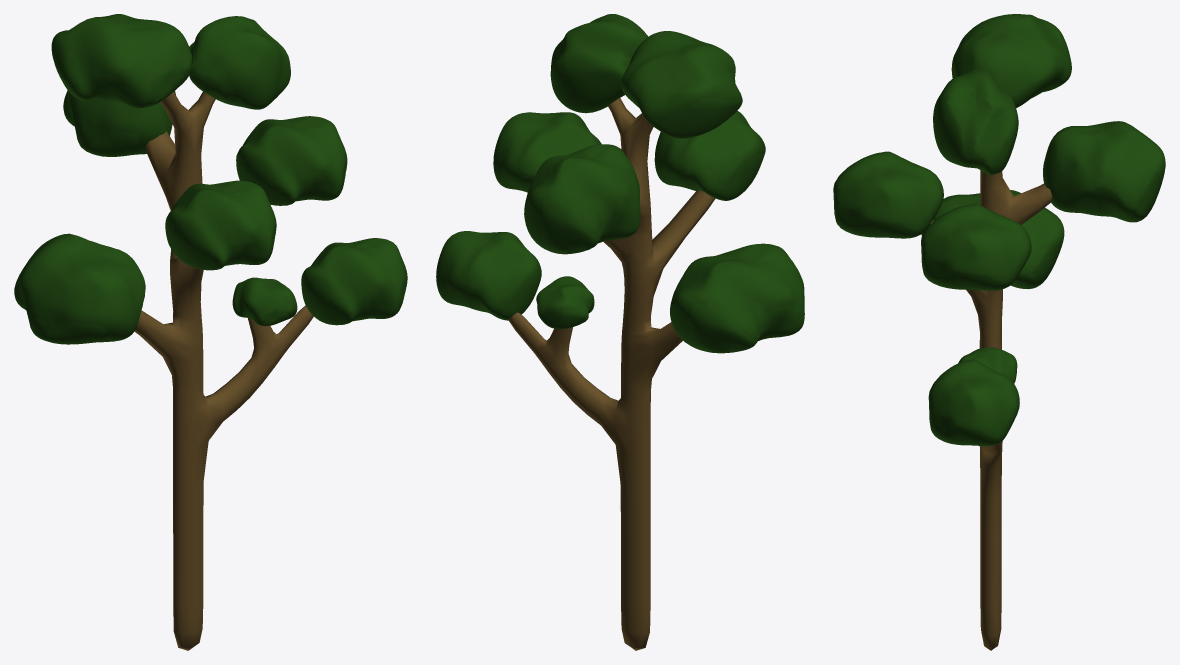
File: tree3.gltf
The picture shows the model from 3 angles, left to right: view 1: azimuth 30°, elevation 25°; view 2: azimuth 150°, elevation 25°; view 3: azimuth 270°, elevation 25°; orthographic projection. The views are drawn at different scales.
Parts seen in each view (by area): view 1: Sphere.006; view 2: Sphere.006; view 3: Sphere.006.
Part boxes in pixels (x1=…): Sphere.006: x1=14, y1=14, x2=407, y2=650; Sphere.006: x1=436, y1=14, x2=804, y2=650; Sphere.006: x1=833, y1=14, x2=1165, y2=650.
Bounding box in the file's own units: 6.71 × 11.05 × 5.54.
